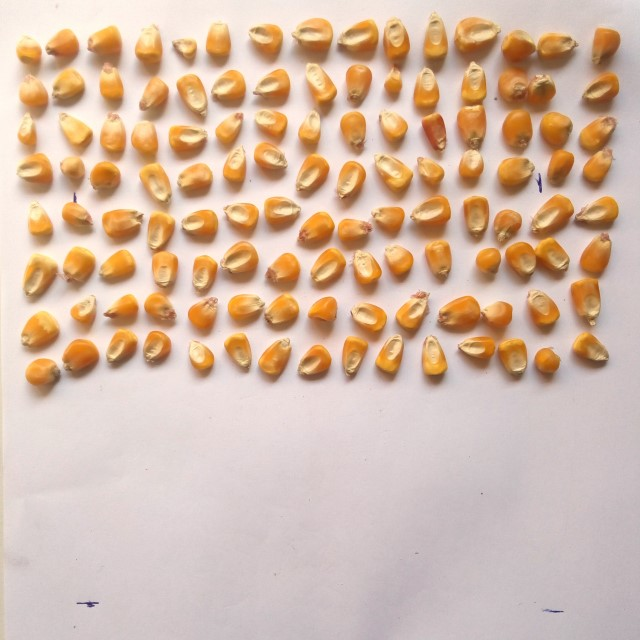maiz: (565, 332, 620, 374), (531, 193, 577, 241), (17, 254, 61, 304), (575, 191, 626, 234), (567, 280, 609, 331), (331, 334, 373, 384), (497, 105, 537, 156), (456, 13, 499, 60), (414, 337, 454, 387), (173, 69, 212, 120), (419, 237, 458, 288), (373, 152, 415, 199), (582, 25, 624, 71), (577, 234, 619, 280), (290, 13, 333, 57), (438, 292, 481, 336), (519, 289, 562, 332), (299, 62, 340, 107), (99, 204, 146, 243), (294, 342, 334, 387), (490, 156, 536, 195), (16, 312, 62, 351), (576, 114, 624, 151), (536, 28, 579, 69), (124, 119, 164, 163), (340, 14, 378, 60), (132, 165, 173, 207), (180, 204, 222, 245), (265, 250, 307, 291), (260, 194, 303, 234), (218, 240, 258, 283), (578, 73, 622, 112), (409, 196, 453, 235), (58, 246, 96, 291), (309, 247, 347, 292), (378, 15, 414, 62), (103, 325, 139, 372), (393, 291, 431, 335), (493, 341, 531, 385), (458, 193, 491, 243), (84, 158, 125, 198), (533, 110, 575, 149), (253, 67, 296, 105), (348, 252, 386, 295), (335, 159, 372, 203), (220, 332, 257, 376), (373, 336, 409, 381), (132, 76, 172, 116), (56, 197, 97, 236), (98, 247, 139, 286), (182, 297, 223, 336), (246, 16, 284, 58), (453, 61, 490, 104), (183, 253, 220, 296), (379, 242, 416, 285), (350, 302, 393, 339), (217, 200, 261, 236), (456, 104, 491, 149), (257, 339, 291, 385), (291, 156, 330, 196), (579, 151, 618, 191), (333, 210, 373, 249), (12, 153, 53, 191), (367, 203, 408, 241), (535, 239, 573, 280), (454, 147, 491, 189), (337, 109, 372, 153), (265, 294, 301, 336), (419, 113, 453, 157), (296, 213, 335, 251), (492, 69, 533, 105), (212, 108, 248, 149), (147, 251, 183, 292), (528, 347, 564, 388), (201, 18, 233, 64), (340, 63, 375, 105), (99, 293, 142, 327), (422, 9, 449, 63), (133, 22, 166, 66), (209, 69, 247, 107), (87, 24, 126, 61), (90, 67, 127, 106), (53, 112, 92, 149), (142, 290, 181, 327), (226, 290, 263, 329), (50, 65, 86, 105), (63, 340, 99, 380), (22, 357, 62, 392), (167, 124, 208, 158), (541, 152, 575, 193), (504, 27, 537, 69), (96, 113, 128, 156), (252, 108, 294, 140), (375, 111, 412, 147), (137, 330, 173, 367), (491, 203, 524, 243), (412, 69, 444, 110), (47, 26, 82, 63), (472, 247, 505, 286), (185, 341, 218, 380), (220, 151, 252, 191), (501, 245, 537, 280), (298, 109, 327, 152), (9, 34, 43, 70), (251, 141, 287, 175), (22, 204, 56, 240), (15, 73, 48, 110), (144, 213, 175, 252), (178, 161, 213, 195), (308, 293, 341, 329), (456, 338, 493, 369), (13, 114, 45, 149), (482, 303, 519, 333), (57, 154, 87, 188), (373, 68, 404, 100), (414, 160, 445, 191), (530, 74, 560, 106), (70, 293, 97, 325), (171, 34, 198, 64)
